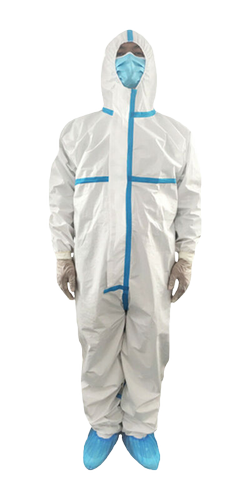Coverall: (46, 29, 202, 429)
Gloves: (53, 255, 78, 302), (169, 256, 192, 306)
Mask: (114, 51, 145, 89)
